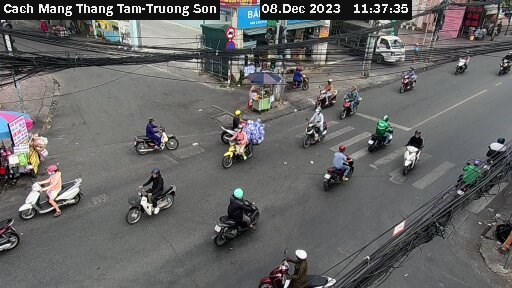motorbike: (121, 171, 200, 230), (23, 168, 87, 226), (251, 250, 346, 288), (129, 110, 194, 161), (318, 150, 367, 193), (214, 127, 260, 170), (2, 202, 28, 264), (298, 109, 340, 146), (217, 110, 264, 143), (476, 127, 506, 177), (367, 118, 401, 154), (396, 60, 432, 92), (400, 135, 430, 171), (337, 86, 371, 115), (313, 74, 343, 106), (451, 49, 478, 80), (493, 48, 512, 79)
truck: (343, 17, 407, 65)
